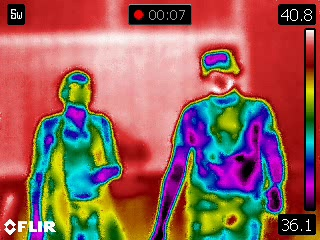human: (150, 42, 289, 240), (25, 61, 133, 240)
